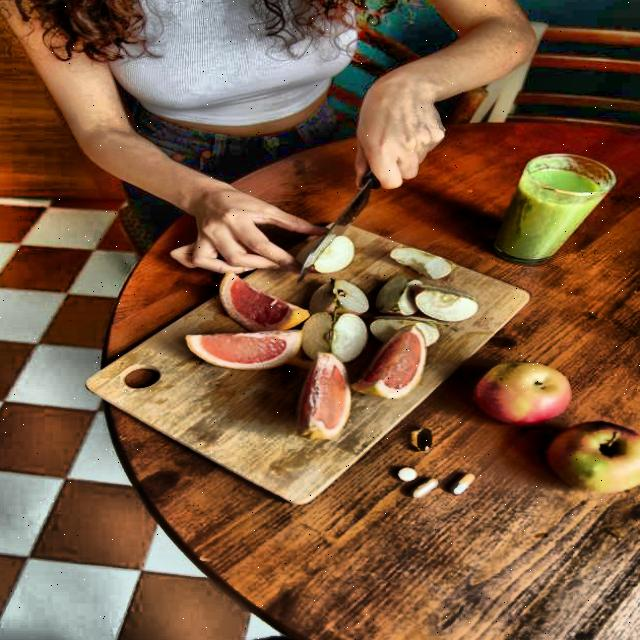knife: (294, 156, 402, 278)
